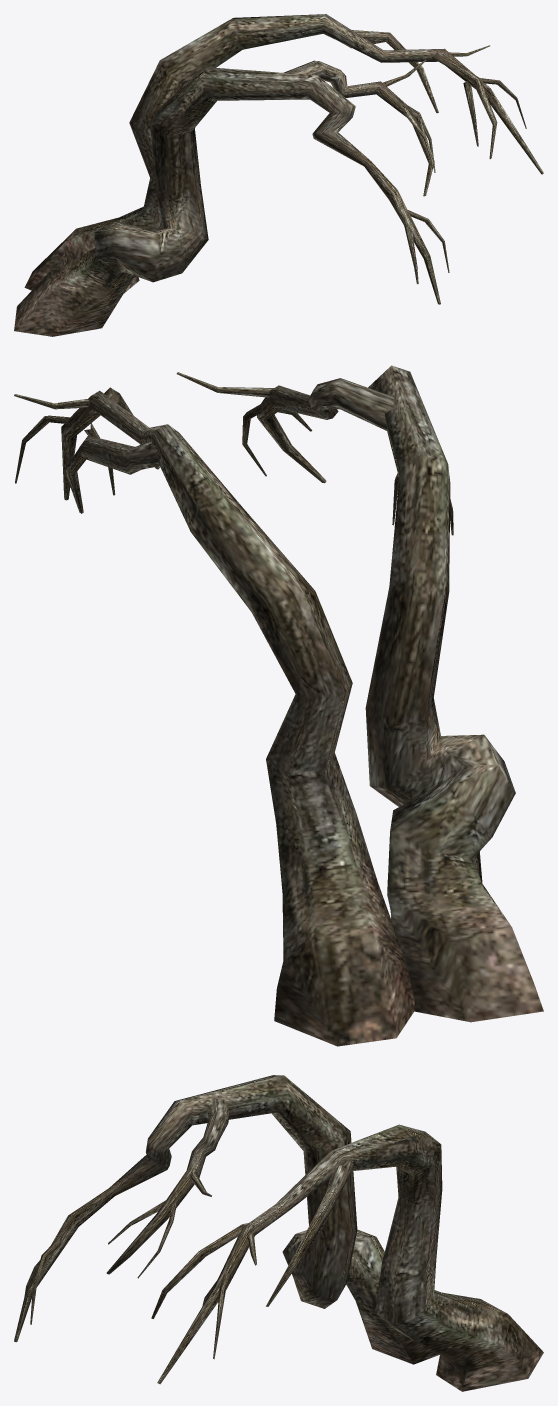
The model's file is deadwood_03.glb.
3 views of the same model, one above another, from view 1: azimuth 30°, elevation 25°; view 2: azimuth 150°, elevation 25°; view 3: azimuth 270°, elevation 25° (orthographic). The views are drawn at different scales.
Visible parts, largest first — view 1: deadwood_03; view 2: deadwood_03; view 3: deadwood_03.
Part boxes in pixels (x1,y1,x2,y2): deadwood_03: (14, 14, 543, 336); deadwood_03: (14, 365, 543, 1046); deadwood_03: (14, 1075, 543, 1391).
Size of the model in its own units: 11.43 by 7.3 by 10.91.
Materials: 1 (1 with a texture image).
